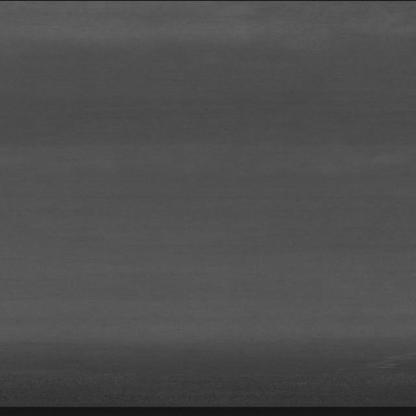silk_spot: (273, 342, 402, 394)
